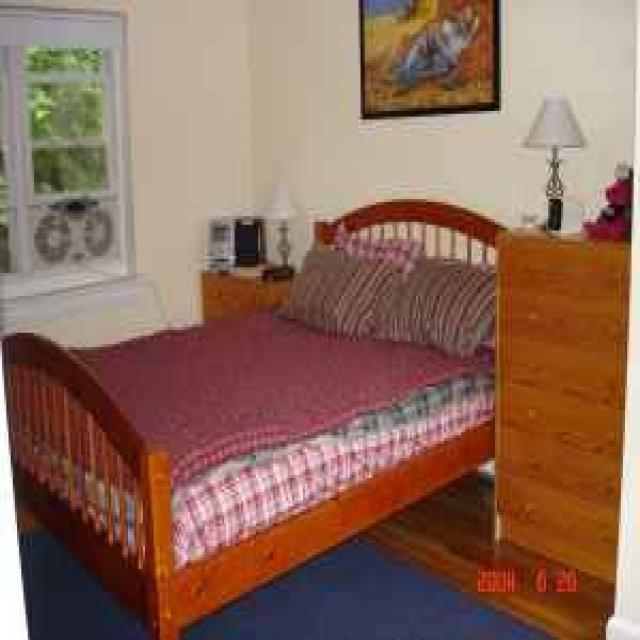2001: (2, 9, 134, 302)
bed -occluded-: (2, 196, 503, 637)
chest of drawers occluded: (493, 225, 629, 617)
cushion occluded: (371, 253, 495, 353), (275, 242, 401, 336)
floor -X: (2, 364, 634, 634)
lamp crop: (521, 97, 585, 233), (258, 182, 294, 276)
night table crop: (201, 259, 294, 319)
picture crop: (358, 0, 495, 117)
wall clock: (250, 0, 636, 501), (2, 0, 254, 398)
